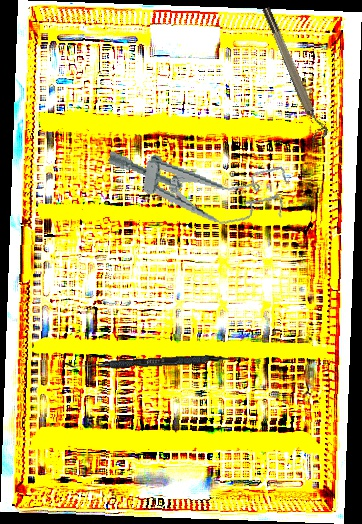Fixation Ring: (260, 3, 330, 142)
Spatula Surgical: (64, 350, 246, 374)
Speculum: (101, 136, 292, 235)
